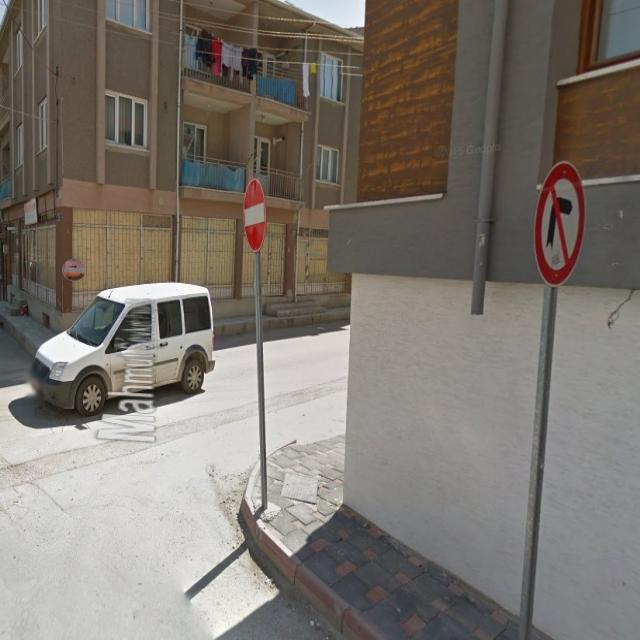girisyok: (244, 180, 266, 253)
sagadonulmez: (533, 161, 586, 285)
